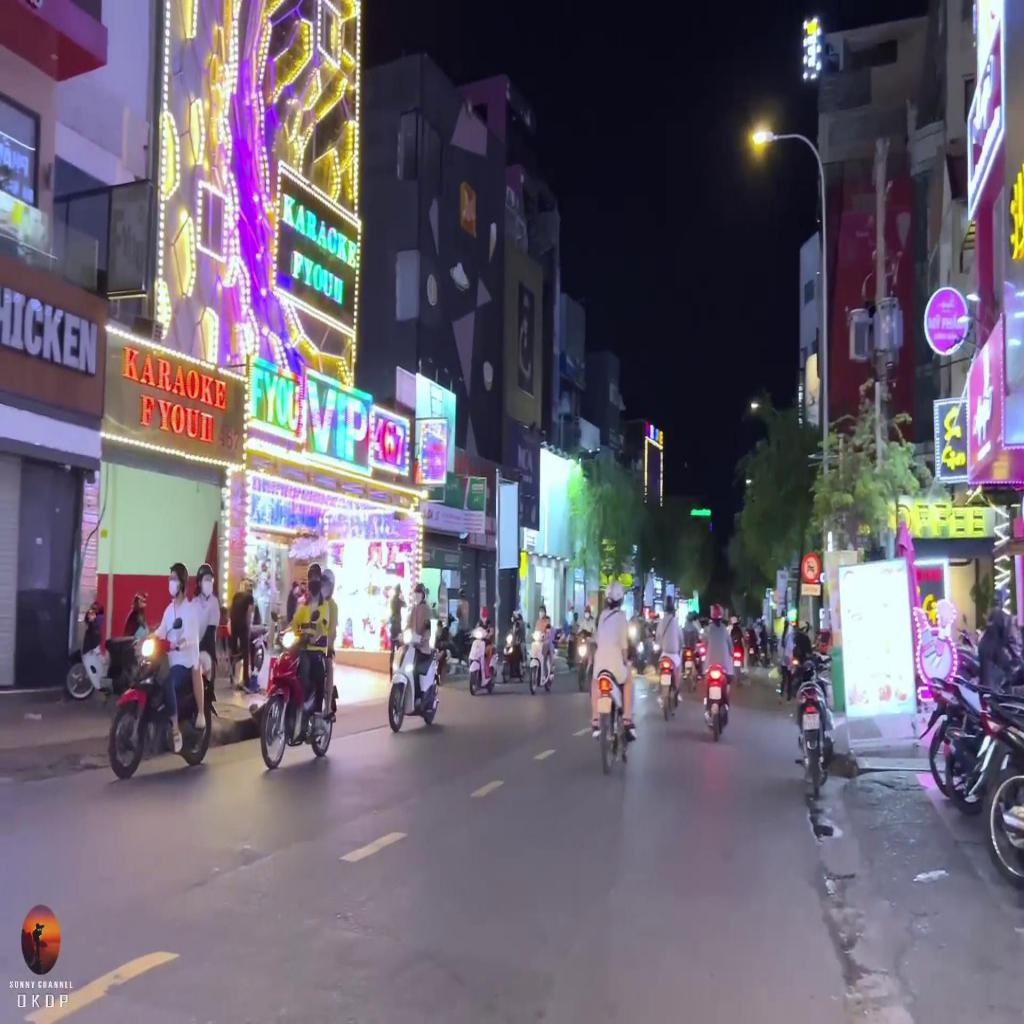cam_o_to: (802, 552, 820, 582)
khac: (801, 584, 821, 595)
